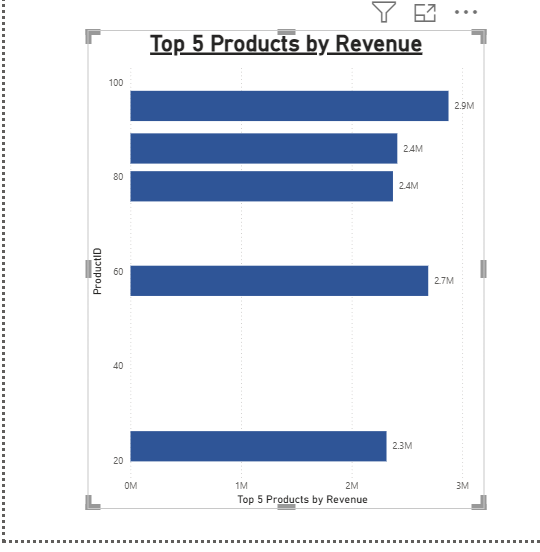

Layout of this report page (visuals, bound fields, positions):
{"tool":"powerbi","page":{"name":"Page 3","canvas":[1280,720],"ordinal":2},"visuals":[{"type":"clusteredBarChart","title":"Top 5 Products by Revenue","fields":{"Y":["ecommercedb customers.TotalRevenue"],"Category":["ecommercedb orderitems.ProductID"]},"box":[110,40,530,638],"z":1000}]}

Visuals, with their boxes on the page's 1280x720 design canvas (x1, y1, x2, y2). These are canvas units, not pixel positions in the 540x552 screenshot, which may show the page scaled, cropped or inside an application window:
"Top 5 Products by Revenue" clusteredBarChart: 110,40,640,678
